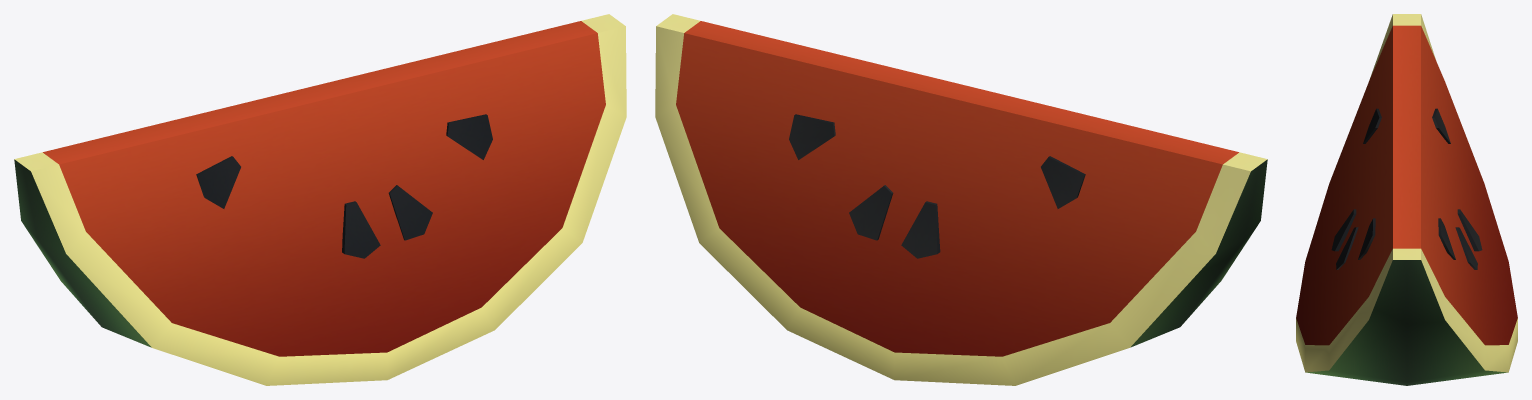
Rendered from melon_slice.fbx.
3 renders of one model, left to right at view 1: azimuth 30°, elevation 25°; view 2: azimuth 150°, elevation 25°; view 3: azimuth 270°, elevation 25°, orthographic. The views are drawn at different scales.
Parts seen in each view (by area): view 1: melon_slice; view 2: melon_slice; view 3: melon_slice.
Part boxes in pixels (bbox=[...]): melon_slice: bbox=[14, 14, 626, 385]; melon_slice: bbox=[655, 14, 1267, 385]; melon_slice: bbox=[1296, 14, 1517, 385].
Size of the model in its own units: 44.85 by 18.44 by 17.08.
